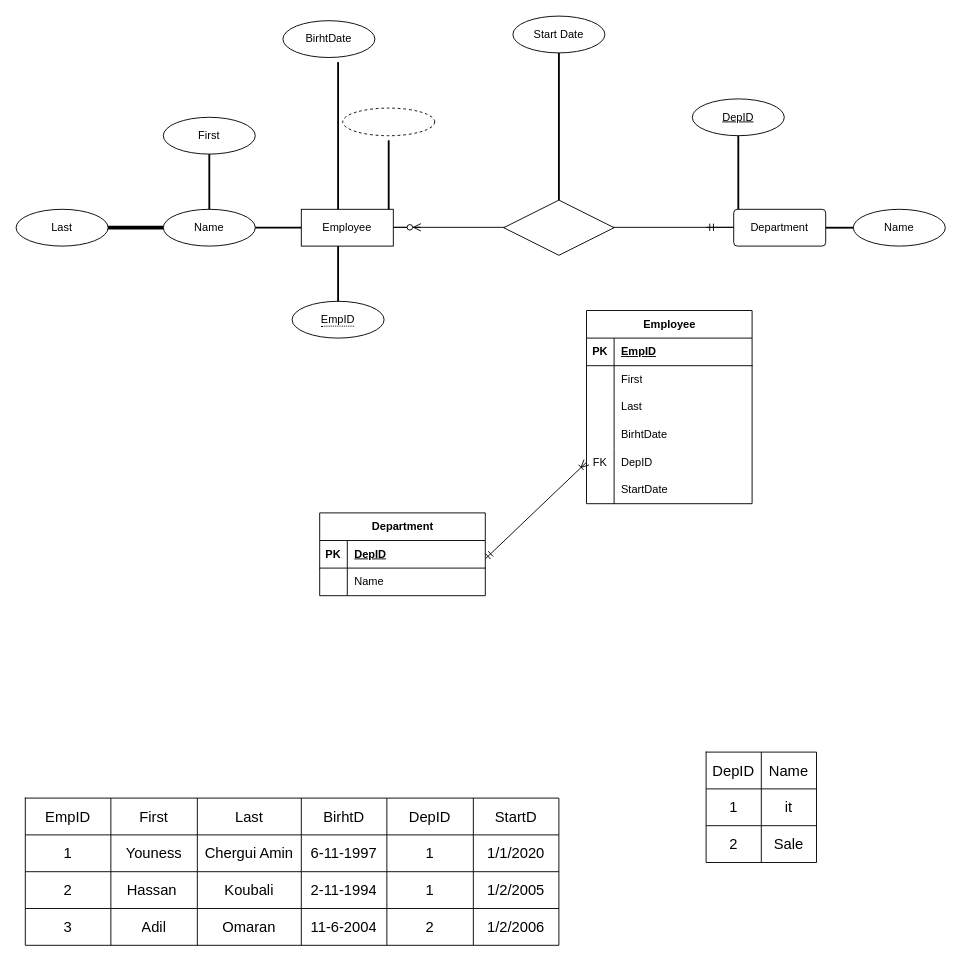
This 961x961 diagram has some shape labels left out. Each missing label, with the box of its shape:
Age: (342, 107, 435, 136)
Work is: (503, 199, 614, 255)
